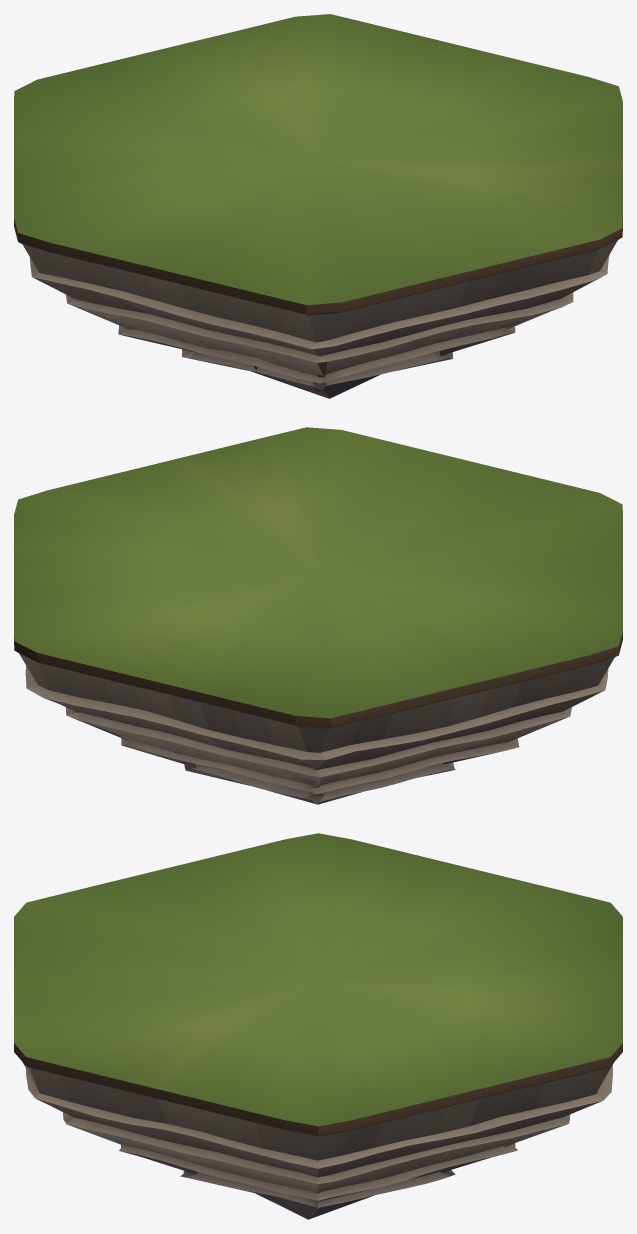
The model's file is socle_hex_5.glb.
3 views of the same model, one above another, from view 1: azimuth 30°, elevation 25°; view 2: azimuth 150°, elevation 25°; view 3: azimuth 270°, elevation 25° (orthographic).
Parts seen in each view (by area): view 1: socle_hex_5; view 2: socle_hex_5; view 3: socle_hex_5.
Boxes of the visible parts, box(x1,y1,x2,y2) form: socle_hex_5: box(14, 14, 622, 398); socle_hex_5: box(14, 427, 622, 804); socle_hex_5: box(14, 833, 622, 1219).
Bounding box in the file's own units: 20.42 × 7.7 × 17.93.
